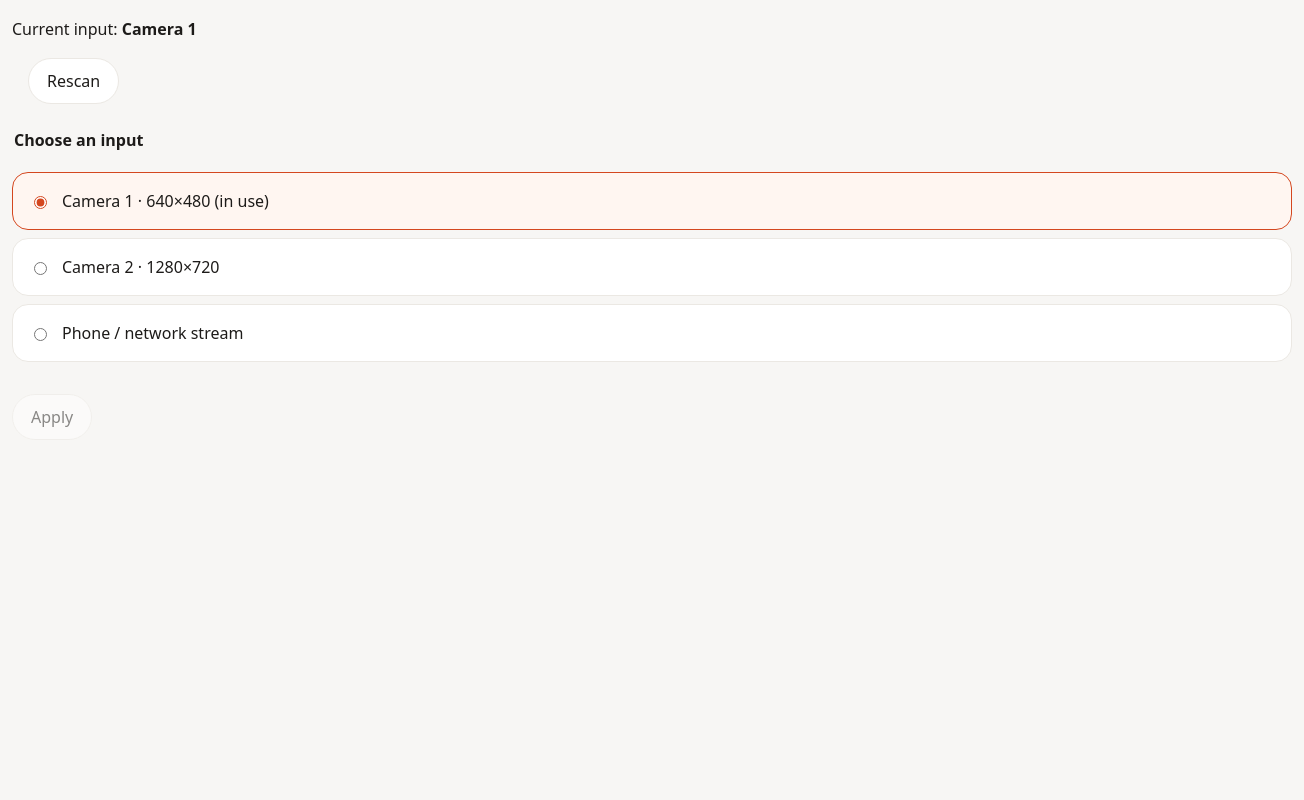
Test case: does not offer to re-apply the stream address already in use
The width and height of the screenshot is (1304, 800).
Expected: the text "Camera 1" is shown, [122,18,197,40]
Click the radio button labelled "Phone / network stream".
click(40, 335)  # box [34,328,47,341]
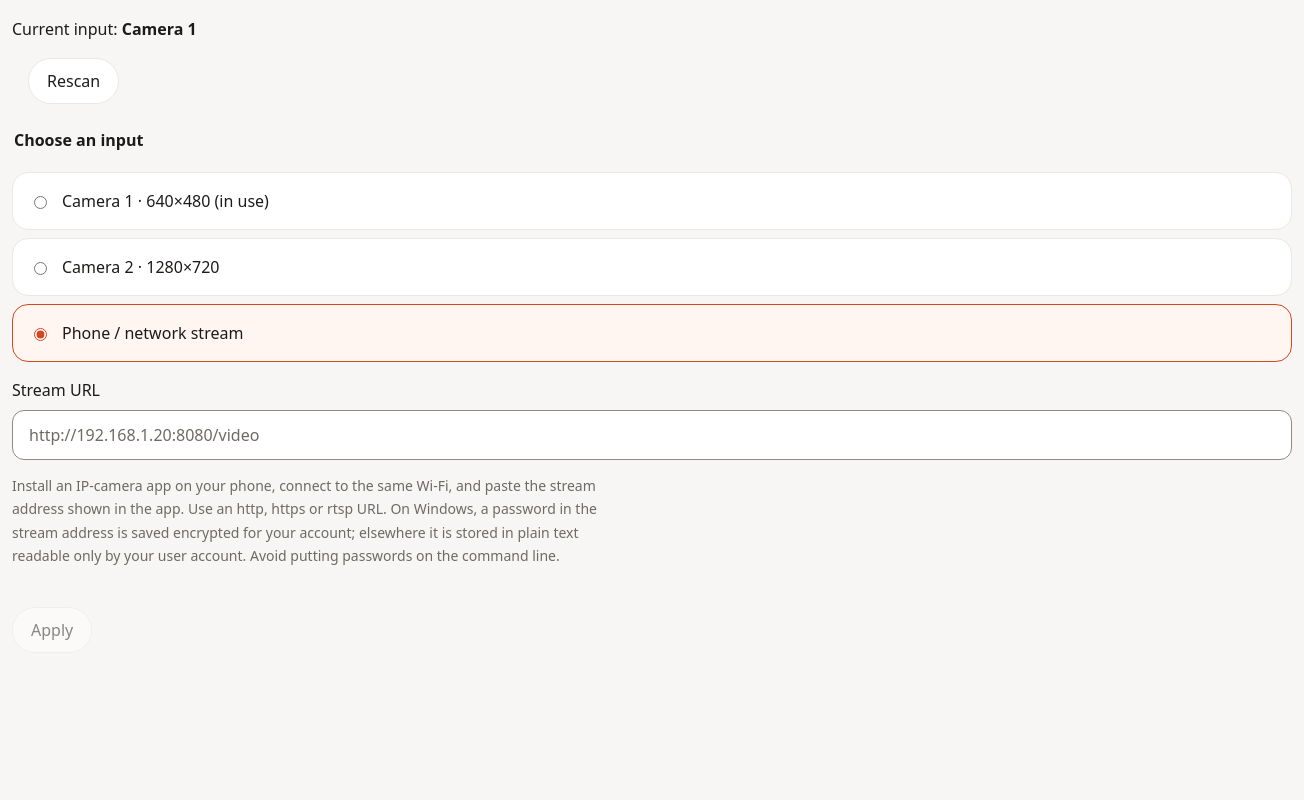
Type "http://phone:8080/video" into the field labelled "Stream URL".
click(652, 435); type("http://phone:8080/video")  # box [12,410,1292,460]
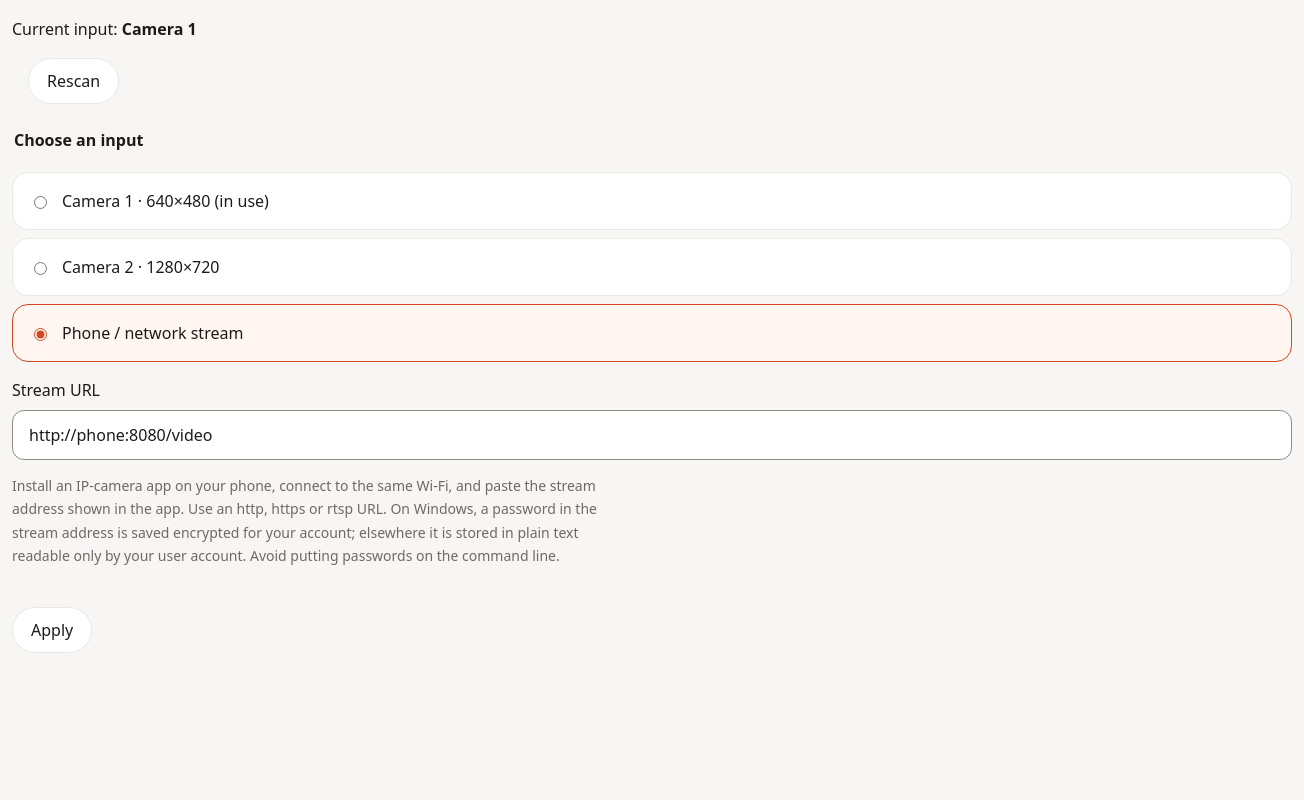
Click the button "Apply".
click(52, 630)  # box [12,607,92,653]
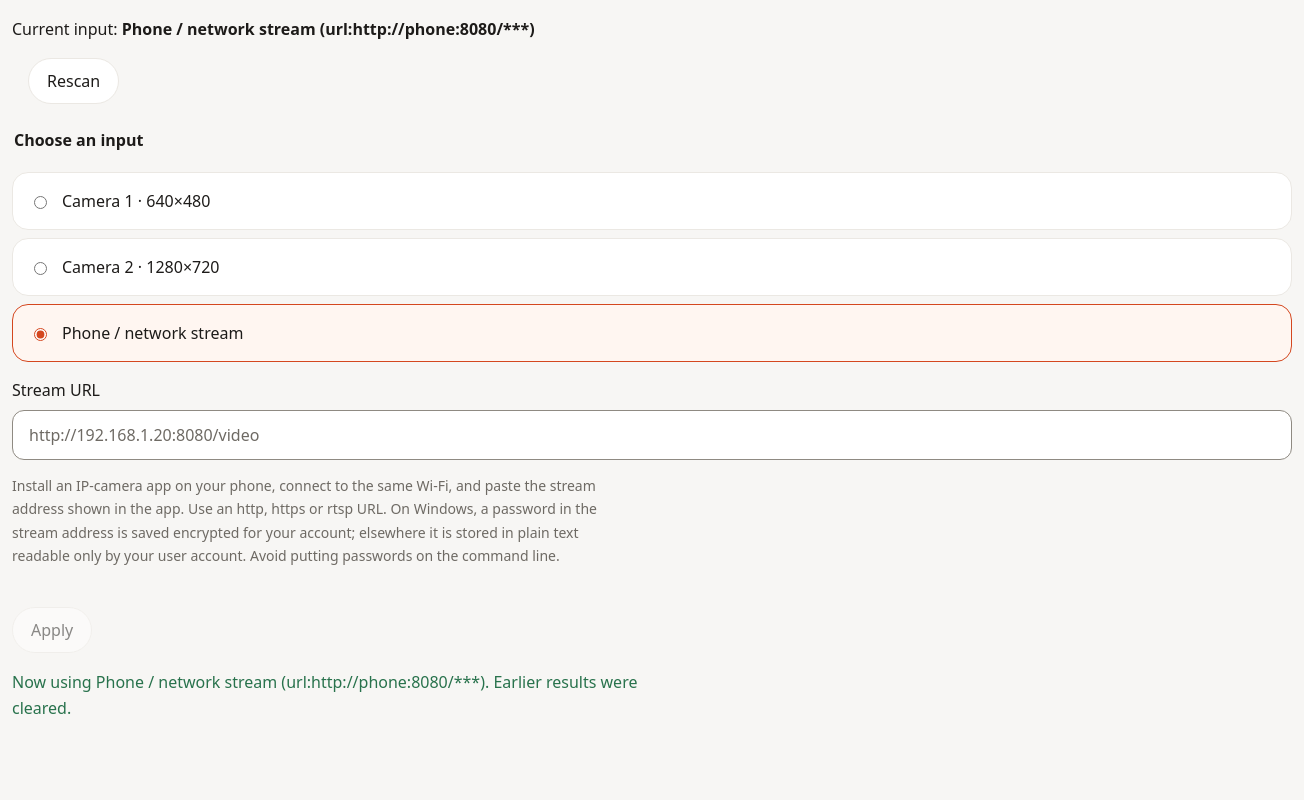
Expected: the text "Earlier results were cleared" is shown, [12,671,638,719]
Type "http://phone:8080/video" into the field labelled "Stream URL".
click(652, 435); type("http://phone:8080/video")  # box [12,410,1292,460]
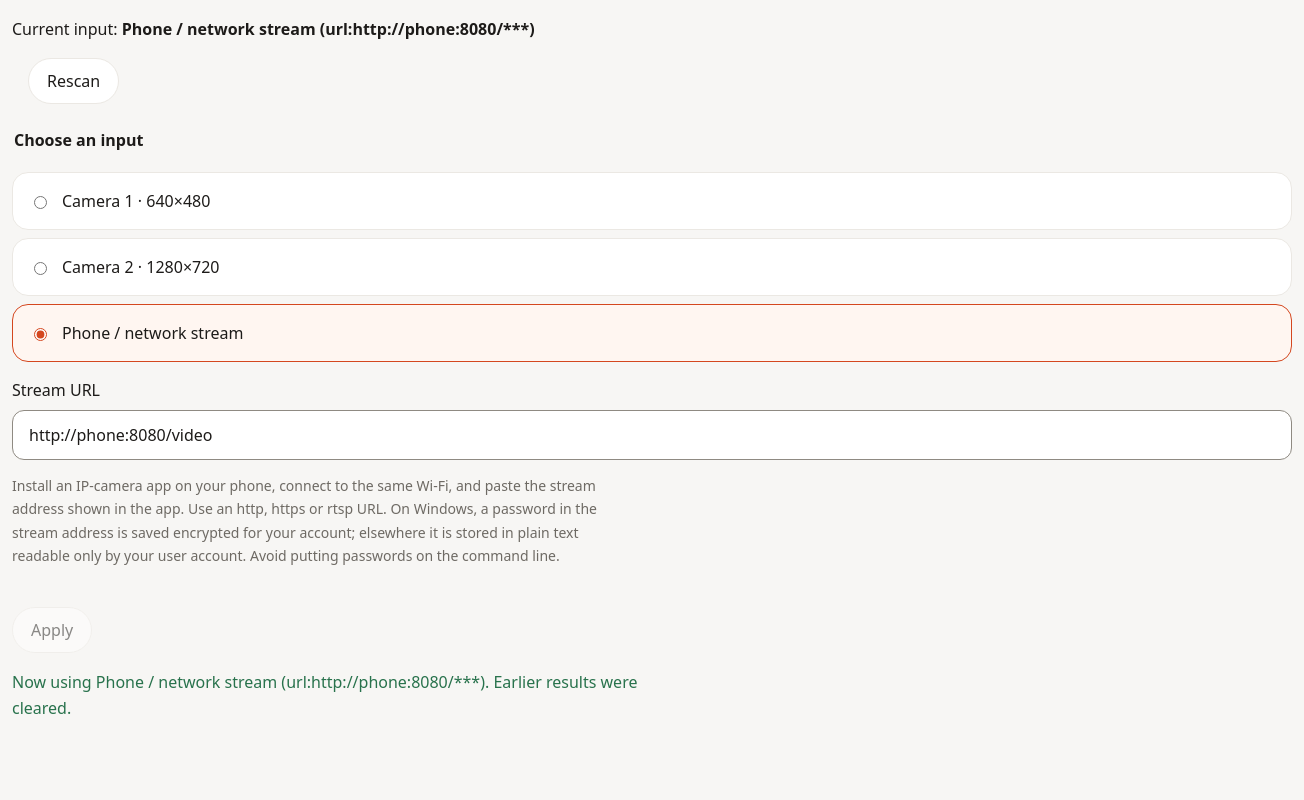
Expected: the button "Apply" is disabled, [12,607,92,653]
Replace the text in the field labelled "Stream URL" with "http://phone:8080/other" at (652, 435), box [12,410,1292,460]
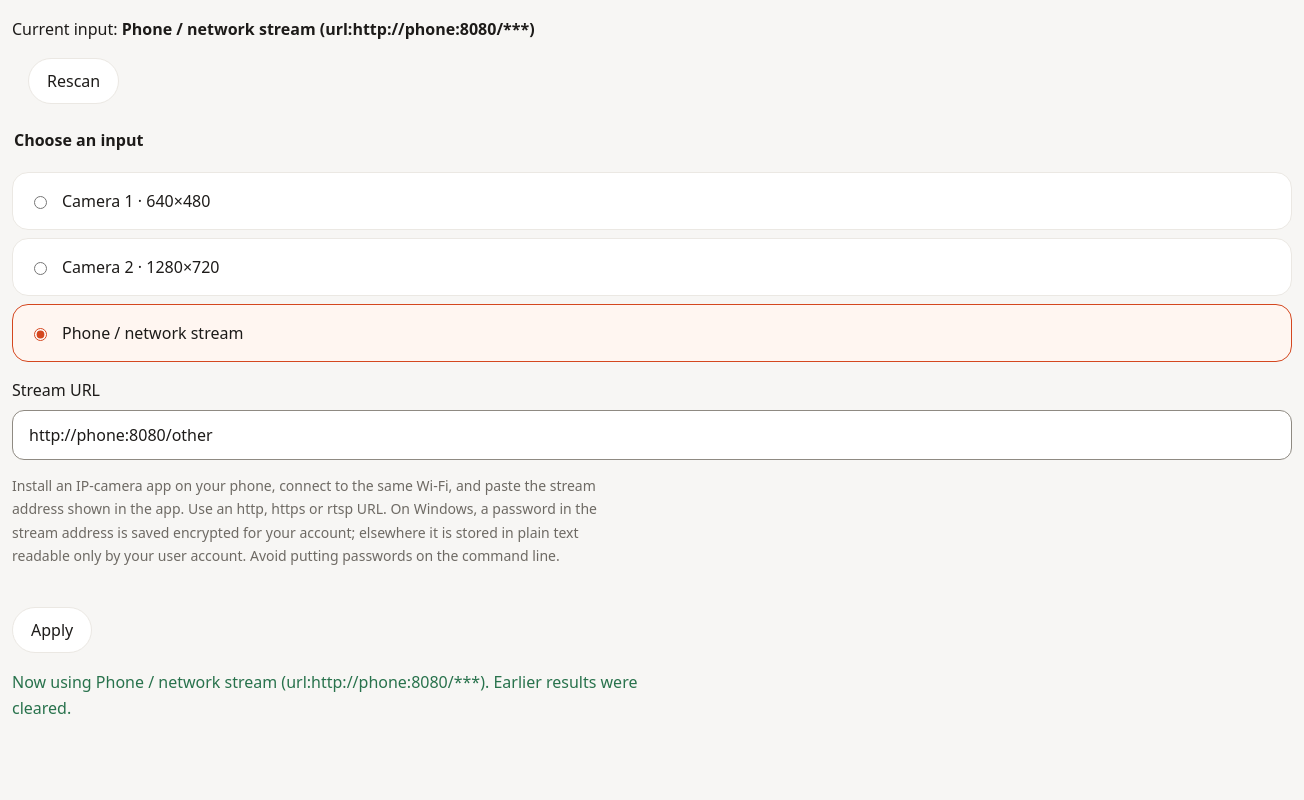
Expected: the button "Apply" is enabled, [12,607,92,653]
